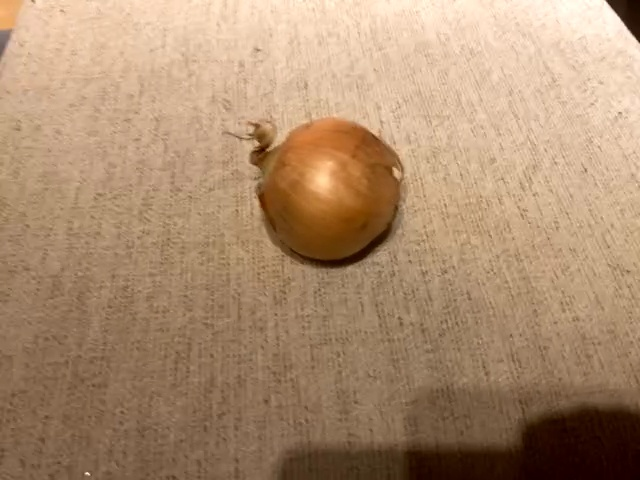onion: (226, 110, 413, 272)
